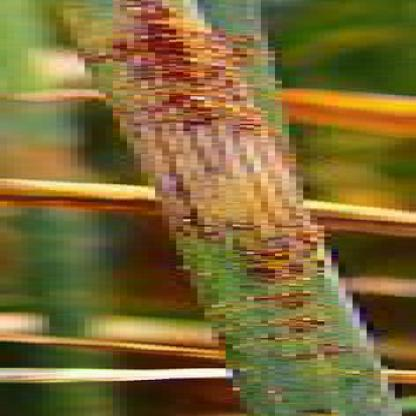wheat Stem Rust: (124, 1, 247, 142), (175, 148, 294, 247), (231, 300, 350, 385), (195, 252, 322, 292), (285, 399, 391, 415)
